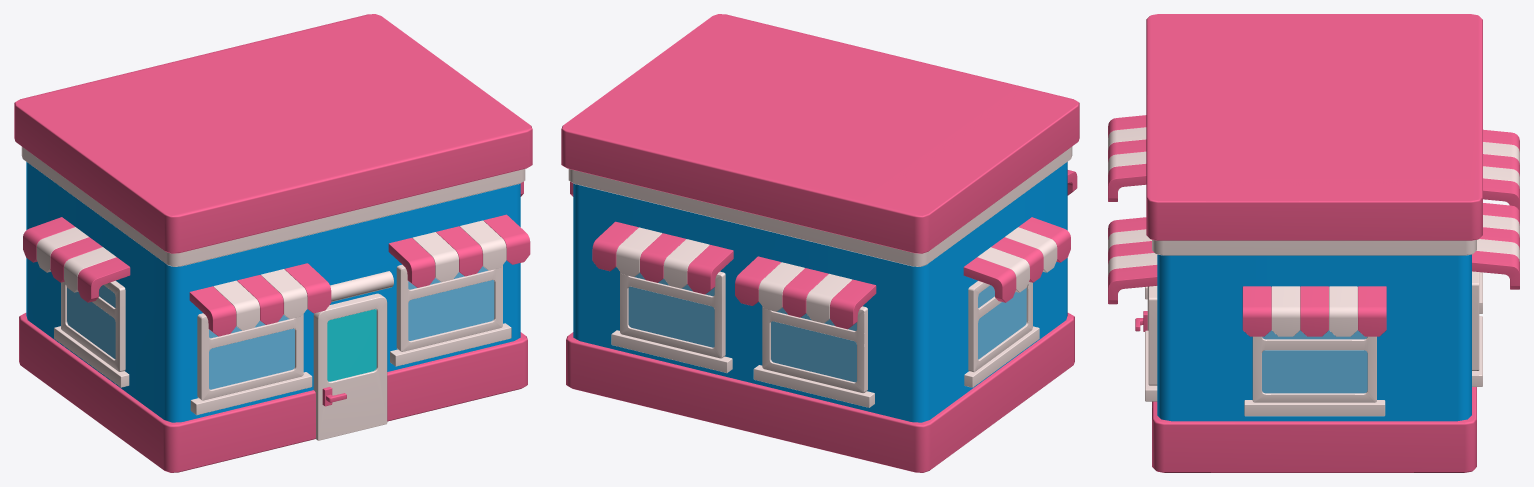
Rendered from Store_14_Donuts_Shop_1.glb.
3 views of the same model, side by side, from view 1: azimuth 30°, elevation 25°; view 2: azimuth 150°, elevation 25°; view 3: azimuth 270°, elevation 25° (orthographic). The views are drawn at different scales.
Parts seen in each view (by area): view 1: Store_14_Donuts_Shop_1; view 2: Store_14_Donuts_Shop_1; view 3: Store_14_Donuts_Shop_1.
Boxes of the visible parts, <box> form: Store_14_Donuts_Shop_1: <box>14,14,532,472</box>; Store_14_Donuts_Shop_1: <box>561,14,1079,472</box>; Store_14_Donuts_Shop_1: <box>1108,14,1519,472</box>.
Bounding box in the file's own units: 10.67 × 6.12 × 8.36.
Materials: 1 (1 with a texture image).
